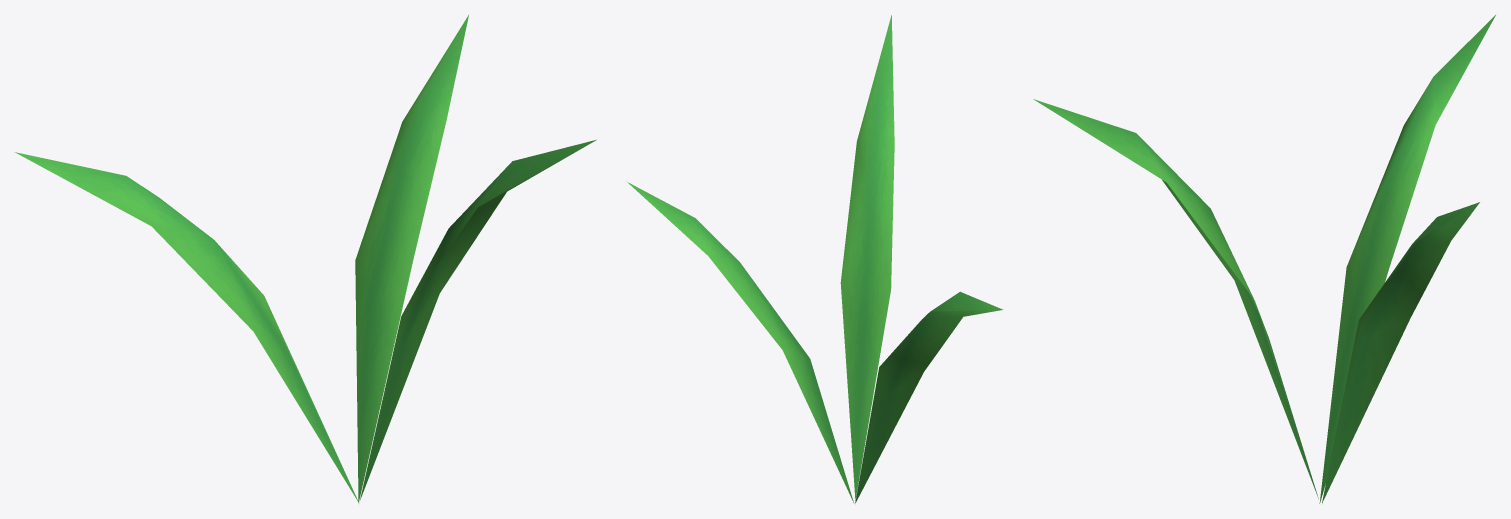
File: Grass_Clump_2.fbx
3 views of the same model, side by side, from view 1: azimuth 30°, elevation 25°; view 2: azimuth 150°, elevation 25°; view 3: azimuth 270°, elevation 25° (orthographic). The views are drawn at different scales.
Parts seen in each view (by area): view 1: object6.062, object6.061, object6.063; view 2: object6.063, object6.061, object6.062; view 3: object6.061, object6.062, object6.063.
Part boxes in pixels (<box>): object6.062: <box>355,15,468,502</box>; object6.061: <box>14,152,359,503</box>; object6.063: <box>360,139,596,500</box>; object6.063: <box>840,15,894,500</box>; object6.061: <box>855,291,1003,503</box>; object6.062: <box>626,181,854,503</box>; object6.061: <box>1319,15,1495,503</box>; object6.062: <box>1322,202,1479,503</box>; object6.063: <box>1033,99,1318,499</box>.
Bounding box in the file's own units: 45.57 × 43.27 × 40.01.
